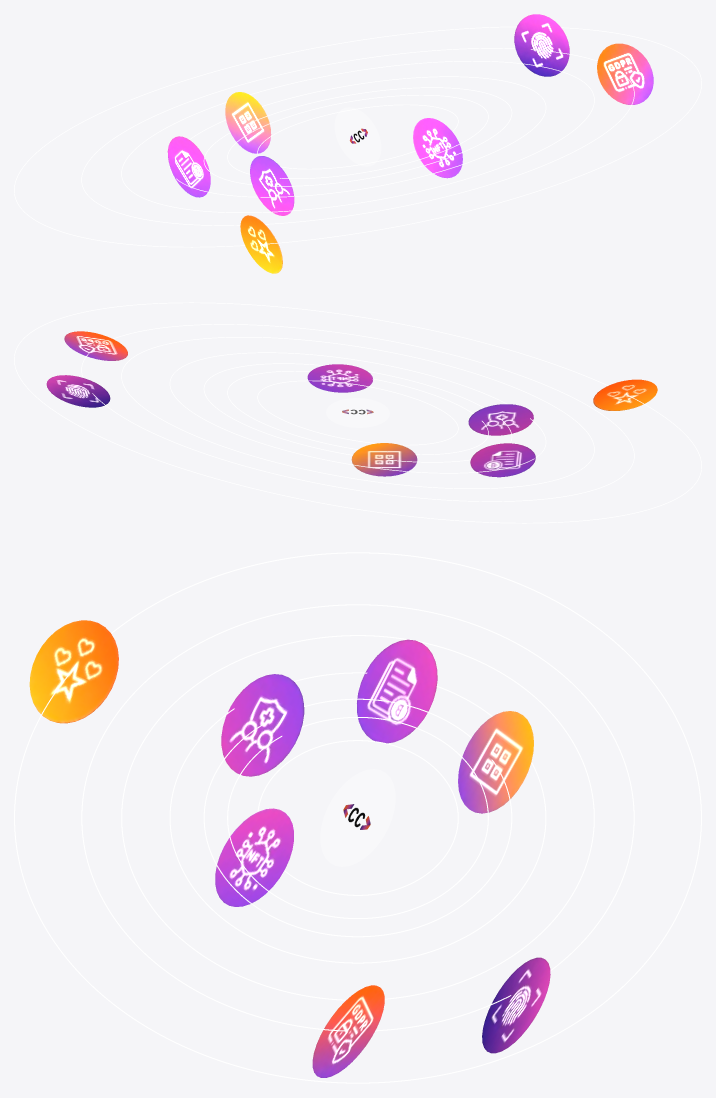
File: ccl-hero.glb
3 renders of one model, top to bottom at view 1: azimuth 30°, elevation 25°; view 2: azimuth 150°, elevation 25°; view 3: azimuth 270°, elevation 25°, orthographic. The views are drawn at different scales.
Parts seen in each view (by area): view 1: Circle, Screenshot 2023-03-31 113044.007, Screenshot 2023-03-31 113044.006, Screenshot 2023-03-31 113044.005, Screenshot 2023-03-31 113044.004, Circle.001, Screenshot 2023-03-31 113044.002, Screenshot 2023-03-31 113044.003, Screenshot 2023-03-31 113044.001; view 2: Circle, Screenshot 2023-03-31 113044.004, Screenshot 2023-03-31 113044.003, Screenshot 2023-03-31 113044.002, Screenshot 2023-03-31 113044.001, Screenshot 2023-03-31 113044.006, Screenshot 2023-03-31 113044.005, Circle.001, Screenshot 2023-03-31 113044.007; view 3: Circle, Screenshot 2023-03-31 113044.001, Screenshot 2023-03-31 113044.002, Screenshot 2023-03-31 113044.003, Screenshot 2023-03-31 113044.004, Screenshot 2023-03-31 113044.005, Circle.001, Screenshot 2023-03-31 113044.006, Screenshot 2023-03-31 113044.007.
Boxes of the visible parts, x1=… form: Circle: x1=14, y1=26, x2=701, y2=247; Screenshot 2023-03-31 113044.007: x1=597, y1=43, x2=653, y2=104; Screenshot 2023-03-31 113044.006: x1=514, y1=14, x2=569, y2=76; Screenshot 2023-03-31 113044.005: x1=413, y1=118, x2=462, y2=178; Screenshot 2023-03-31 113044.004: x1=225, y1=92, x2=271, y2=153; Circle.001: x1=335, y1=107, x2=380, y2=166; Screenshot 2023-03-31 113044.002: x1=250, y1=156, x2=294, y2=215; Screenshot 2023-03-31 113044.003: x1=167, y1=136, x2=210, y2=197; Screenshot 2023-03-31 113044.001: x1=240, y1=215, x2=282, y2=273; Circle: x1=14, y1=302, x2=701, y2=523; Screenshot 2023-03-31 113044.004: x1=351, y1=443, x2=417, y2=476; Screenshot 2023-03-31 113044.003: x1=470, y1=443, x2=535, y2=477; Screenshot 2023-03-31 113044.002: x1=468, y1=404, x2=533, y2=435; Screenshot 2023-03-31 113044.001: x1=593, y1=379, x2=657, y2=410; Screenshot 2023-03-31 113044.006: x1=46, y1=375, x2=110, y2=407; Screenshot 2023-03-31 113044.005: x1=307, y1=364, x2=372, y2=392; Circle.001: x1=326, y1=398, x2=389, y2=427; Screenshot 2023-03-31 113044.007: x1=64, y1=331, x2=127, y2=360; Circle: x1=14, y1=552, x2=701, y2=1083; Screenshot 2023-03-31 113044.001: x1=29, y1=620, x2=118, y2=723; Screenshot 2023-03-31 113044.002: x1=221, y1=674, x2=304, y2=776; Screenshot 2023-03-31 113044.003: x1=357, y1=639, x2=437, y2=743; Screenshot 2023-03-31 113044.004: x1=458, y1=711, x2=533, y2=813; Screenshot 2023-03-31 113044.005: x1=215, y1=808, x2=293, y2=906; Circle.001: x1=320, y1=769, x2=395, y2=866; Screenshot 2023-03-31 113044.006: x1=482, y1=957, x2=550, y2=1053; Screenshot 2023-03-31 113044.007: x1=312, y1=985, x2=384, y2=1077.
Size of the model in its own units: 12.01 by 0.8748 by 6.58.
Materials: 4 (2 with a texture image).
